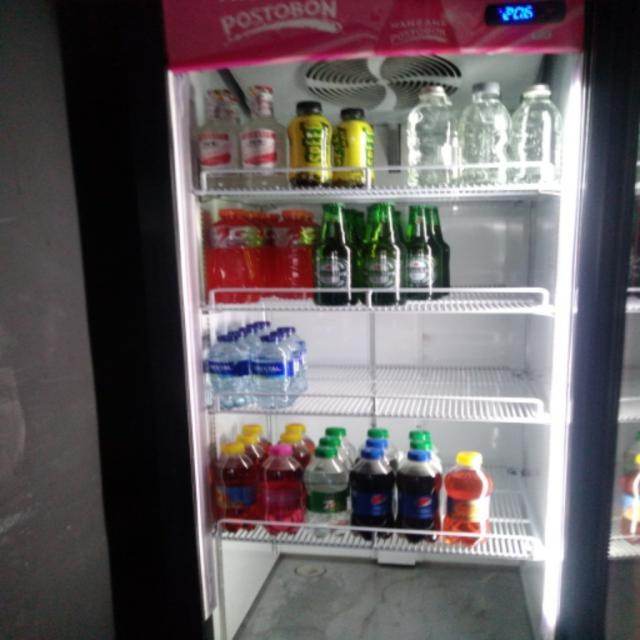Gatorade: (213, 211, 252, 307), (281, 207, 317, 297)
speed: (289, 102, 331, 189), (331, 110, 374, 190)
